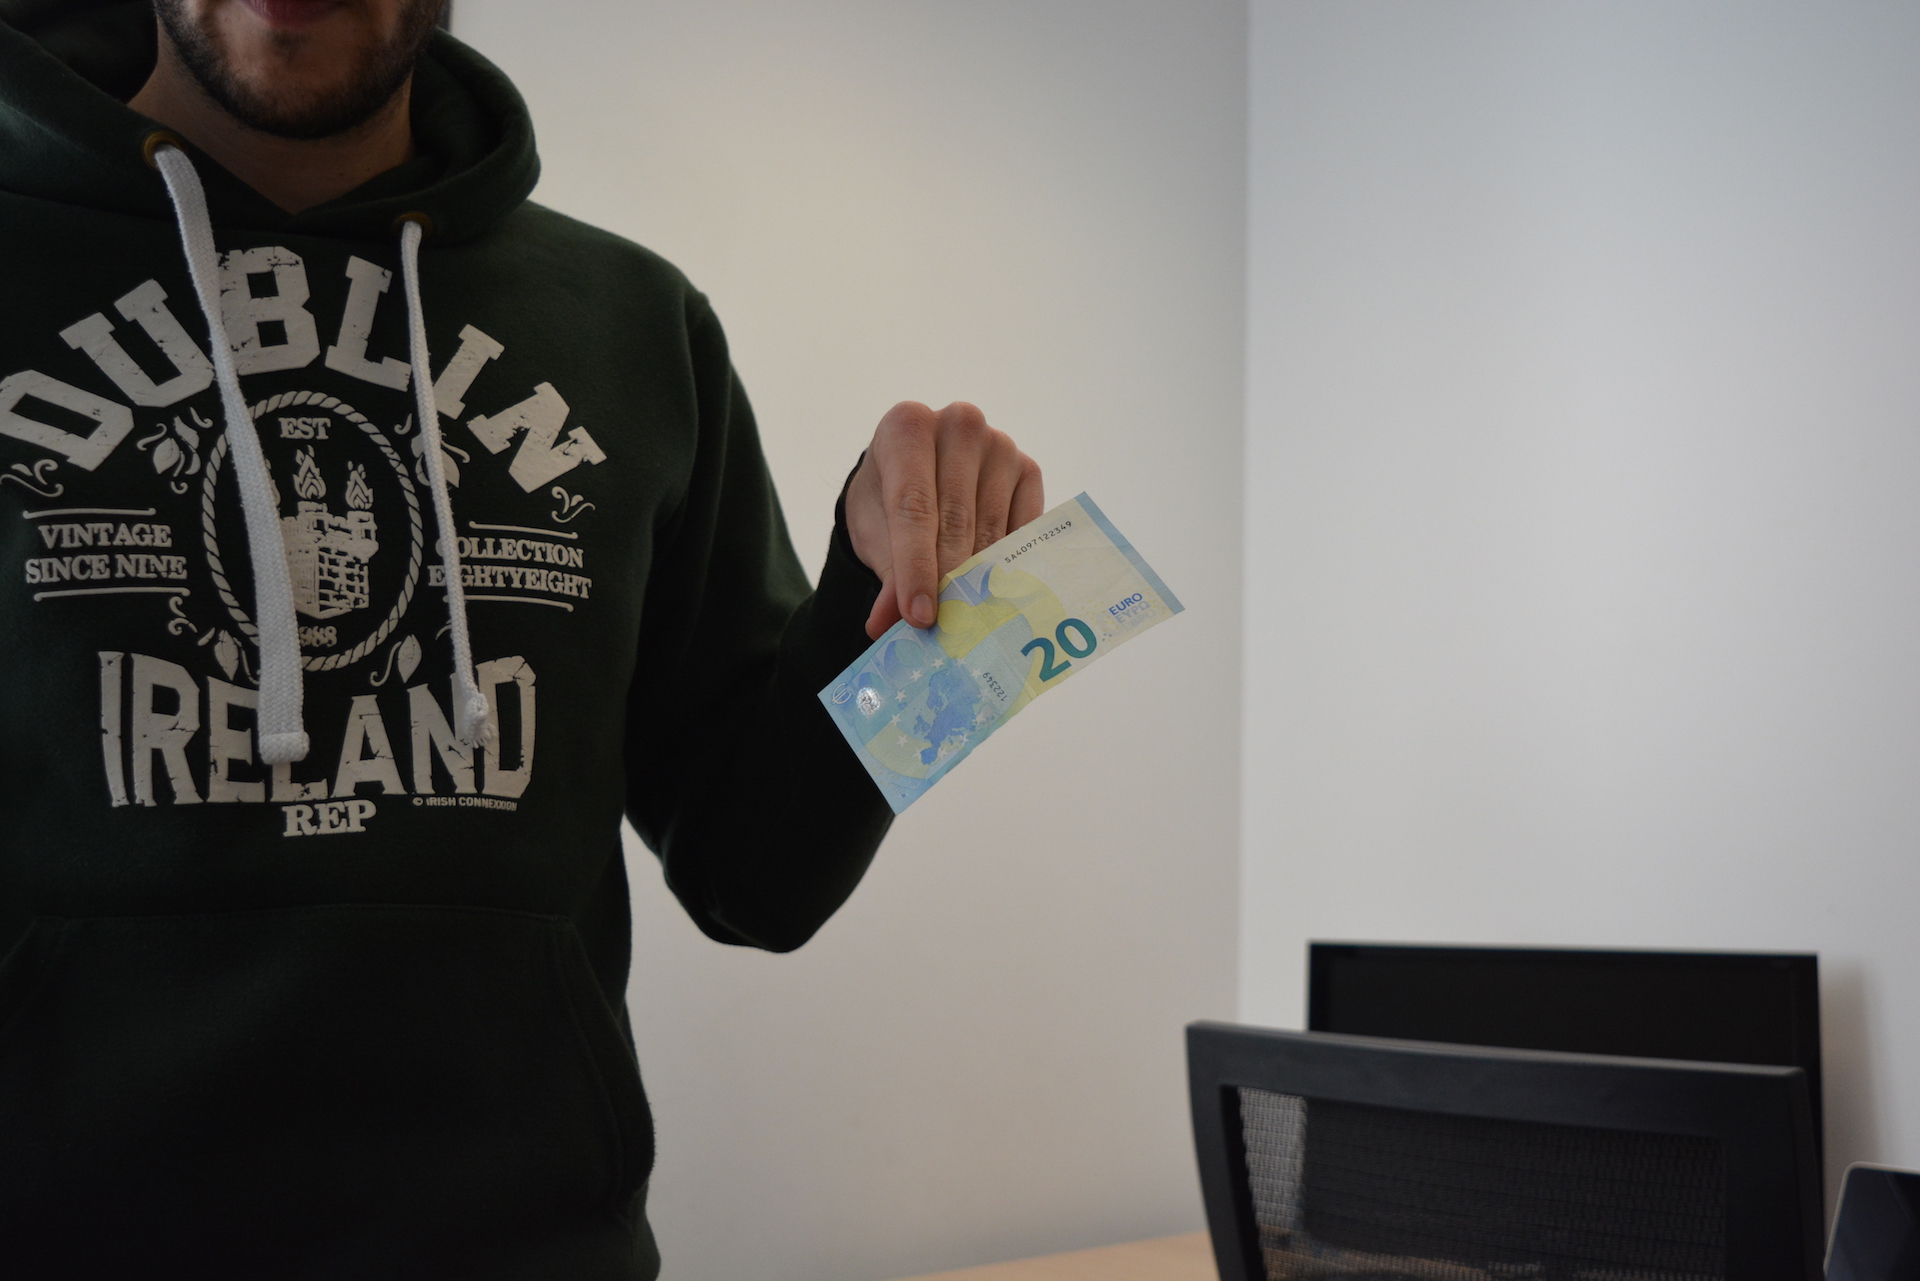billete: (813, 489, 1188, 818)
